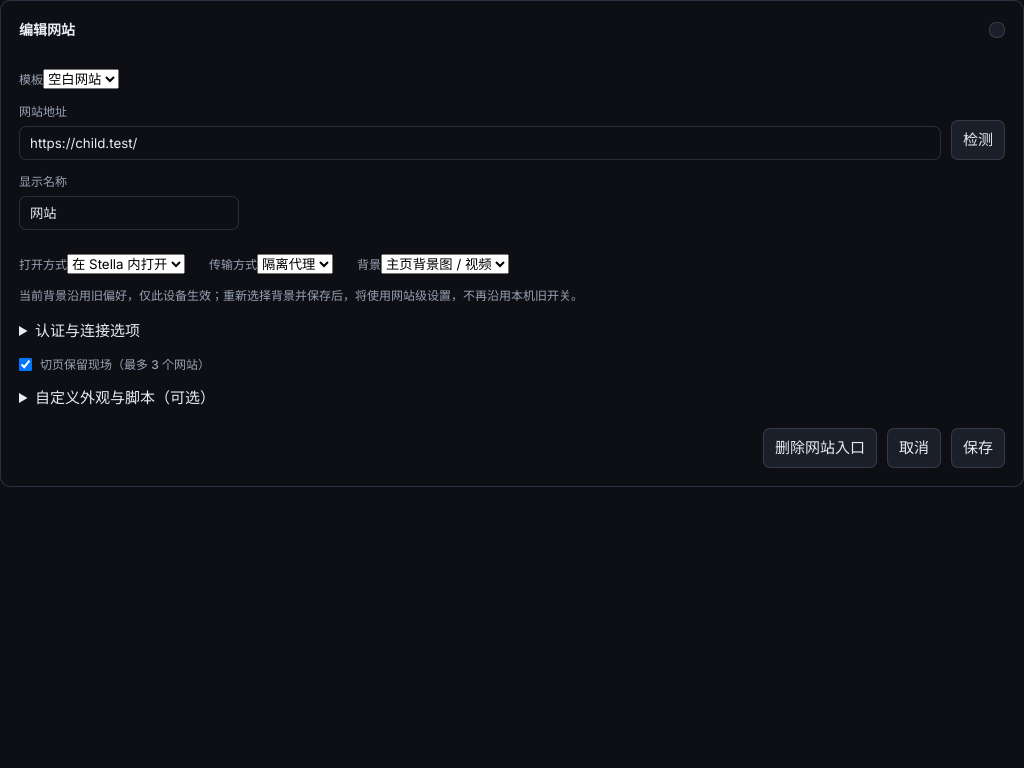
it: keeps the local preference when explicit save readback is inconsistent
The image size is (1024, 768).
Select "纯色背景" in the dropdown labelled "背景": {"x": 445, "y": 264} [381,254,509,274]
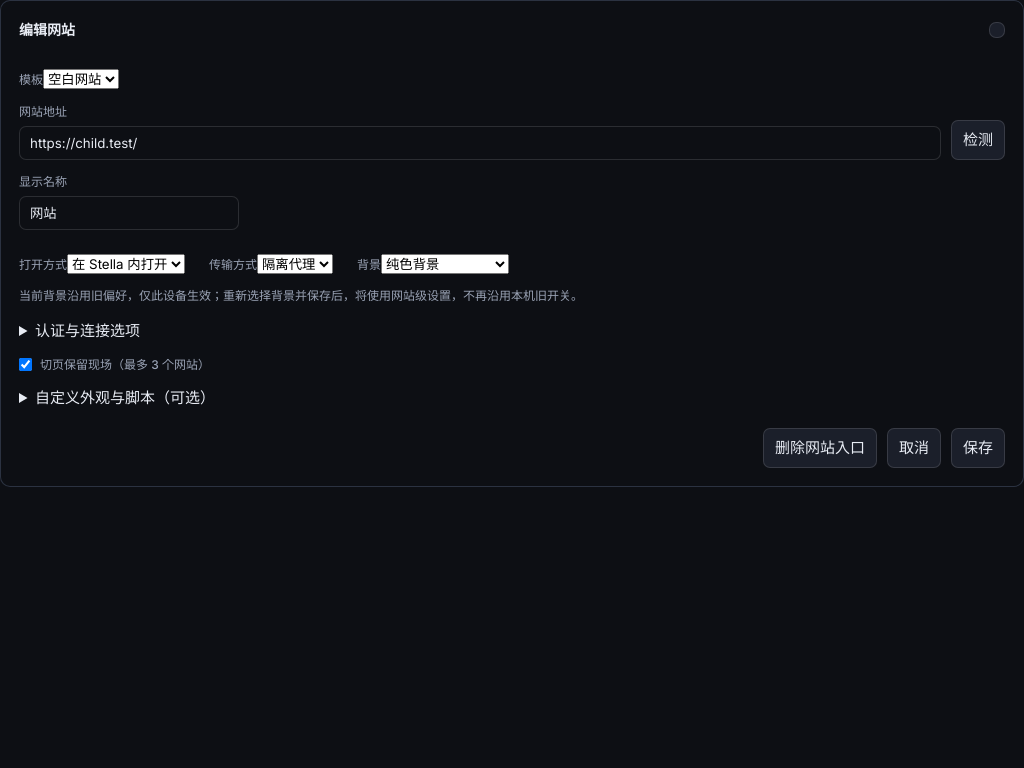
Submit the form
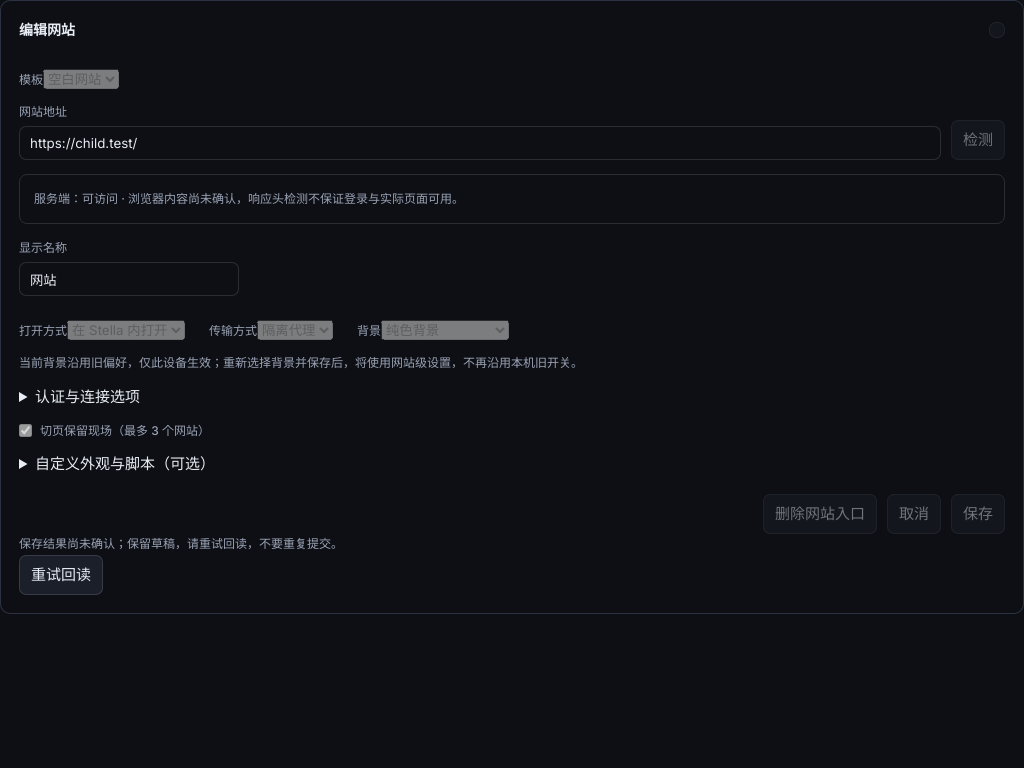
Check: the text "尚未确认" is shown, box [34,191,464,206]
